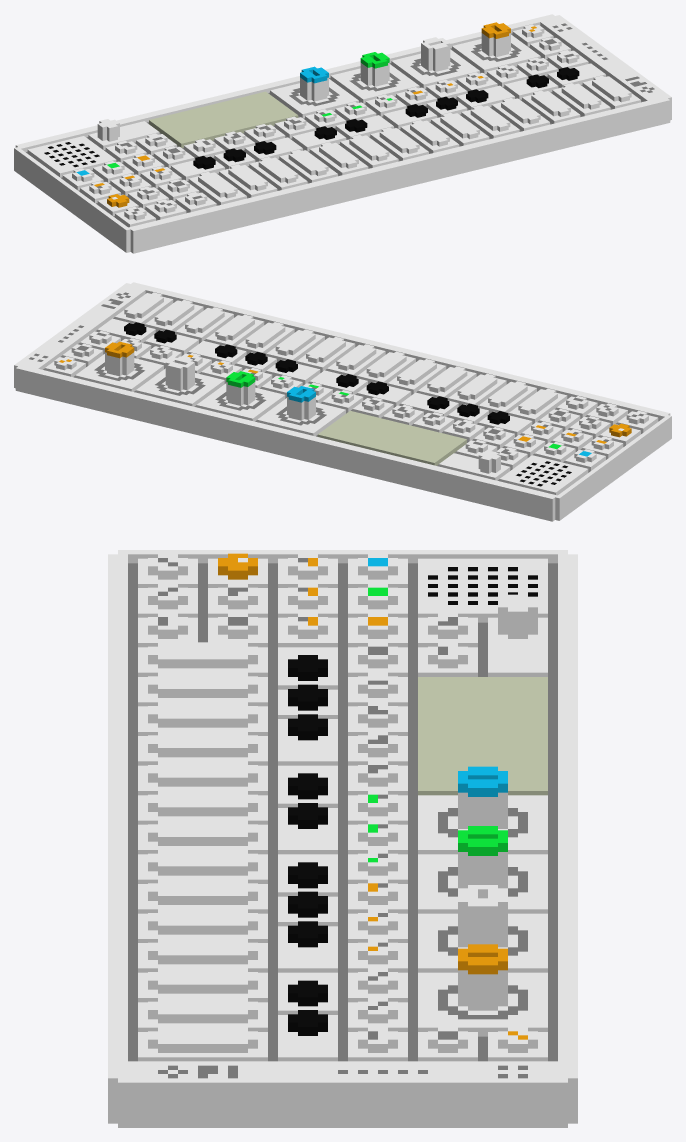
3 renders of one model, top to bottom at view 1: azimuth 30°, elevation 25°; view 2: azimuth 150°, elevation 25°; view 3: azimuth 270°, elevation 25°, orthographic. The views are drawn at different scales.
Visible parts, largest first — view 1: op1; view 2: op1; view 3: op1.
Part boxes in pixels (x1,y1,x2,y2): op1: (14, 14, 671, 253); op1: (14, 282, 671, 521); op1: (108, 550, 577, 1127).
Bounding box in the file's own units: 126 × 10 × 47.
1 material, 1 textured.
